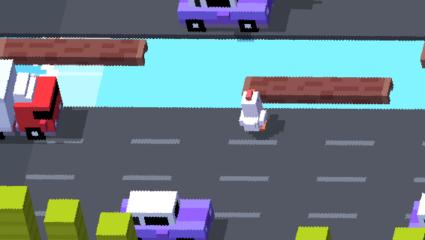hen: (239, 90, 266, 132)
obstacle: (0, 59, 60, 139), (122, 190, 212, 240), (177, 0, 276, 31), (44, 199, 89, 239), (99, 214, 138, 240), (408, 192, 425, 228), (295, 227, 331, 240), (393, 228, 424, 240)
timber: (0, 39, 154, 66), (243, 77, 393, 103)
